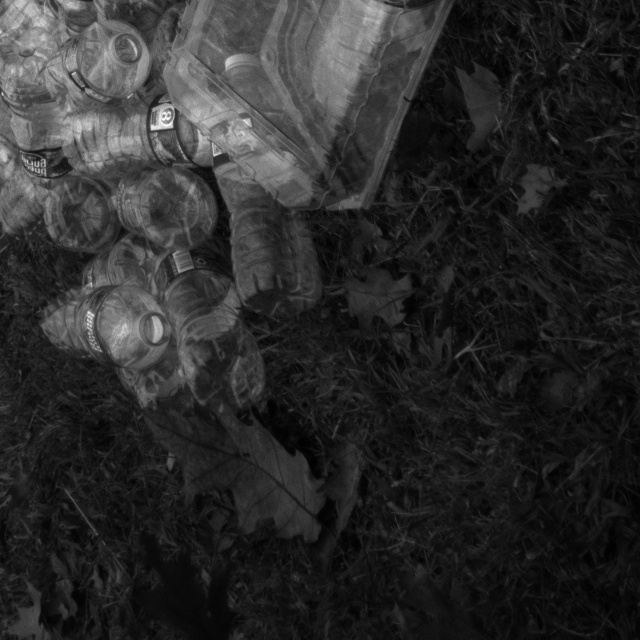bottle: (133, 220, 255, 408), (283, 0, 448, 132), (12, 249, 172, 384), (19, 0, 154, 128), (38, 89, 214, 180)
container: (171, 0, 498, 241)
